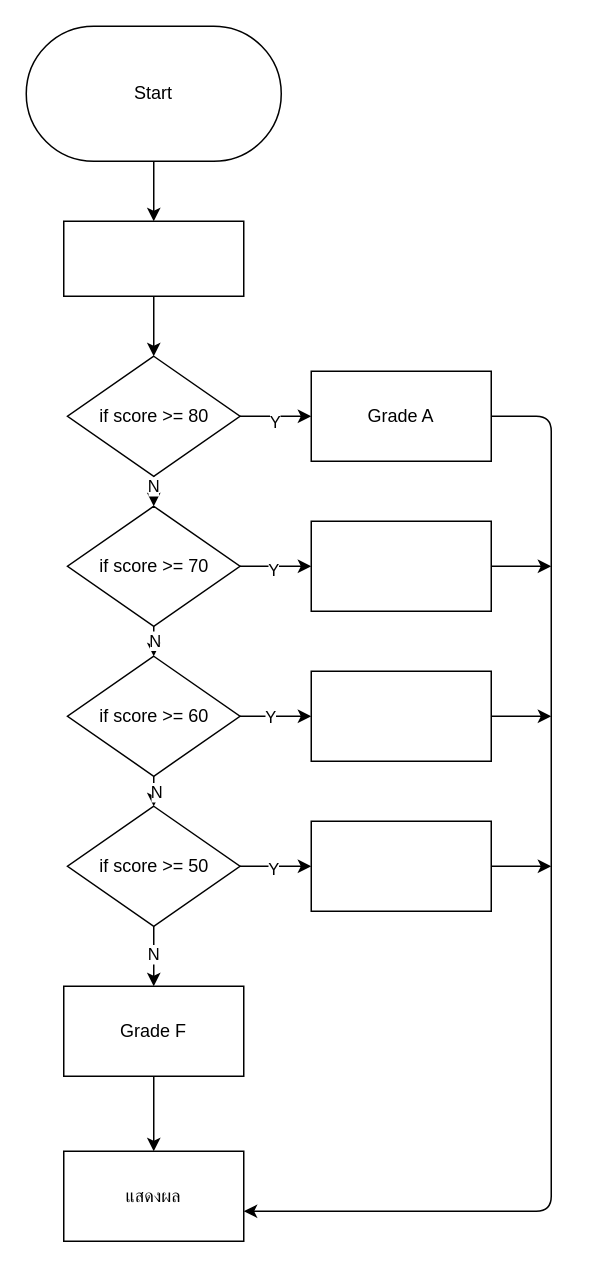
This 590x1268 diagram has some shape labels left out. The centre of each missing label's shape, as x and y in pixels:
"Grade B" goes at (400,565).
"Grade C" goes at (400,715).
"Grade D" goes at (400,865).
"input score" goes at (153,258).
